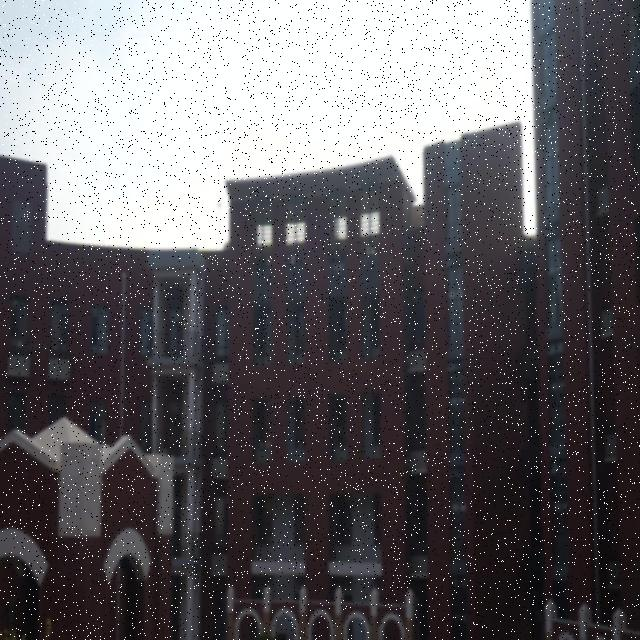UAV: (334, 264, 343, 275)
